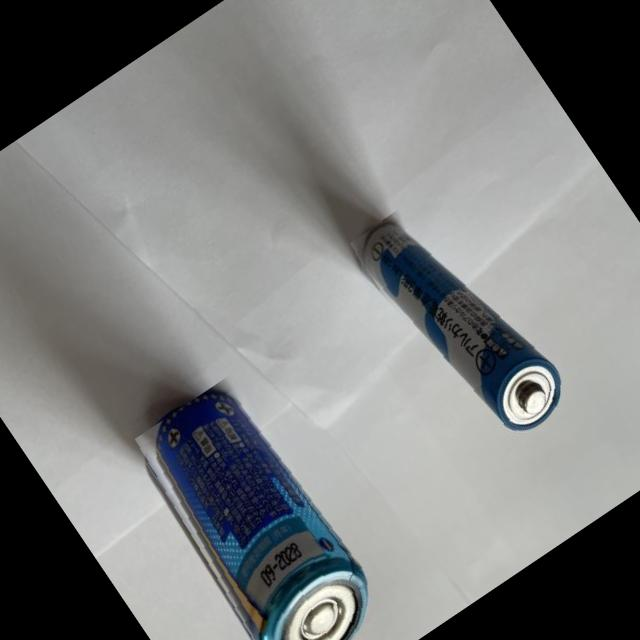Hazard: (119, 373, 394, 640), (343, 185, 577, 460)
